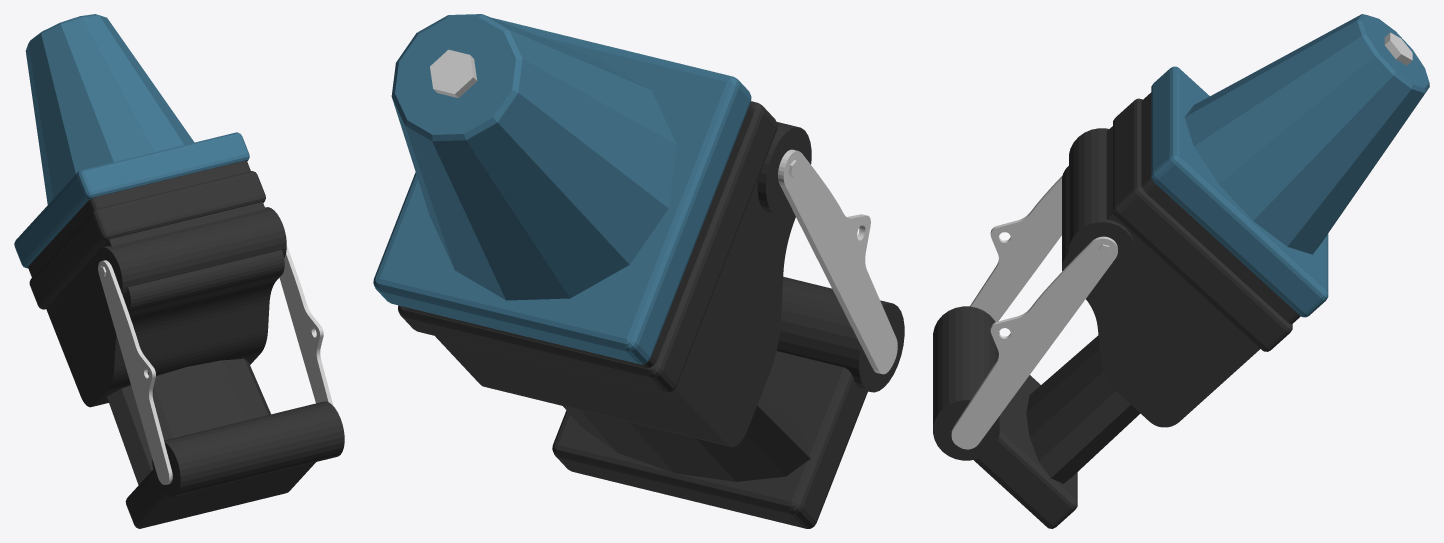
3 renders of one model, left to right at view 1: azimuth 30°, elevation 25°; view 2: azimuth 150°, elevation 25°; view 3: azimuth 270°, elevation 25°, orthographic. The views are drawn at different scales.
Parts seen in each view (by area): view 1: 对象001; view 2: 对象001; view 3: 对象001.
Part boxes in pixels (<box>): 对象001: <box>14,14,344,528</box>; 对象001: <box>373,14,904,528</box>; 对象001: <box>933,14,1429,528</box>.
Size of the model in its own units: 2.51 by 5.46 by 5.27.
